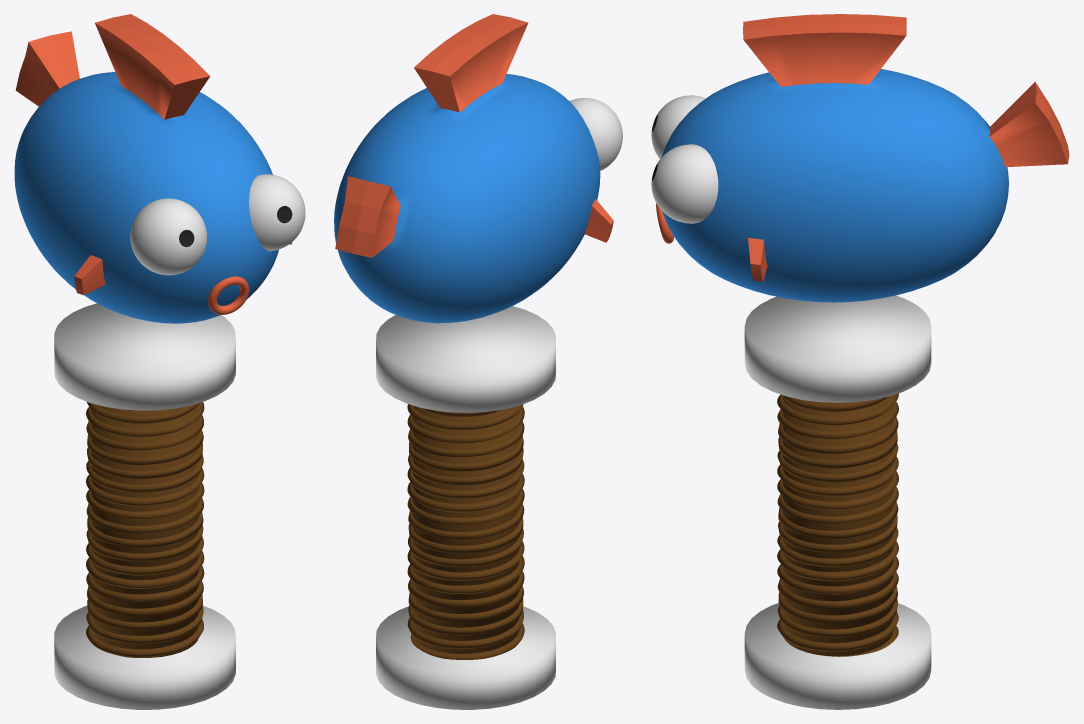
File: tower_fish_f.fbx
The picture shows the model from 3 angles, left to right: view 1: azimuth 30°, elevation 25°; view 2: azimuth 150°, elevation 25°; view 3: azimuth 270°, elevation 25°; orthographic projection. The views are drawn at different scales.
Parts seen in each view (by area): view 1: corps poisson, SpiroFit, Circle.001, Circle, Cylinder, yeux, bouche; view 2: corps poisson, SpiroFit, Circle.001, Cylinder, Circle, yeux; view 3: corps poisson, SpiroFit, Circle.001, Circle, Cylinder, yeux.
Part boxes in pixels (left/top/right/bottom): corps poisson: left=14, top=14, right=292, bottom=323; SpiroFit: left=86, top=402, right=204, bottom=657; Circle.001: left=54, top=303, right=235, bottom=410; Circle: left=54, top=605, right=235, bottom=709; Cylinder: left=91, top=404, right=199, bottom=657; yeux: left=130, top=174, right=305, bottom=275; bouche: left=208, top=276, right=249, bottom=314; corps poisson: left=334, top=14, right=613, bottom=323; SpiroFit: left=407, top=404, right=524, bottom=659; Circle.001: left=376, top=306, right=555, bottom=412; Cylinder: left=412, top=405, right=519, bottom=654; Circle: left=376, top=606, right=555, bottom=709; yeux: left=569, top=98, right=622, bottom=170; corps poisson: left=662, top=14, right=1069, bottom=302; SpiroFit: left=777, top=393, right=898, bottom=656; Circle.001: left=744, top=295, right=931, bottom=402; Circle: left=744, top=603, right=931, bottom=709; Cylinder: left=782, top=396, right=893, bottom=656; yeux: left=651, top=95, right=718, bottom=223.
Size of the model in its own units: 318 by 877 by 512.
